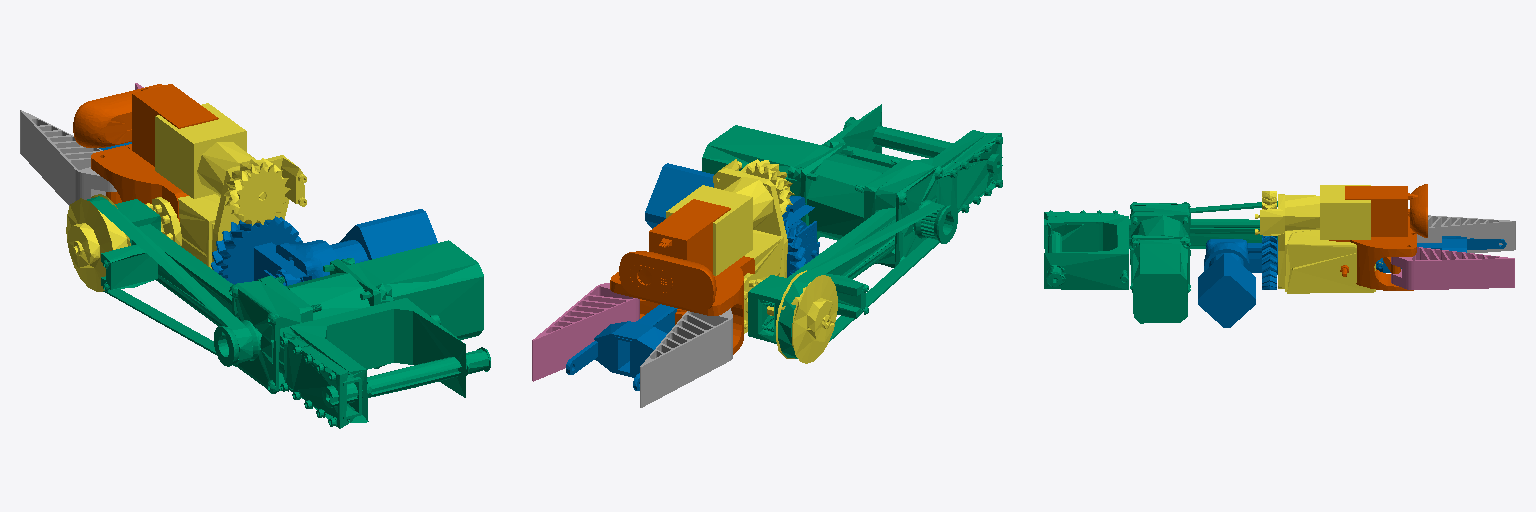
URDF robot description (lara):
<?xml version="1.0" ?>
<!-- =================================================================================== -->
<!-- |    This document was autogenerated by xacro from lara.xacro                     | -->
<!-- |    EDITING THIS FILE BY HAND IS NOT RECOMMENDED                                 | -->
<!-- =================================================================================== -->
<robot name="lara">
  <link name="chassis">
    <visual>
      <geometry>
        <mesh filename="package://lara_model/objs/Chassis.obj"/>
      </geometry>
    </visual>
    <collision>
      <geometry>
        <mesh filename="package://lara_model/objs/Chassis.obj"/>
      </geometry>
    </collision>
  </link>
  <link name="link_1">
    <visual>
      <geometry>
        <mesh filename="package://lara_model/objs/Link1.obj"/>
      </geometry>
    </visual>
    <collision>
      <geometry>
        <mesh filename="package://lara_model/objs/Link1.obj"/>
      </geometry>
    </collision>
  </link>
  <joint name="chassis_to_link_1" type="revolute">
    <axis xyz="0 0 1"/>
    <limit effort="1000.0" lower="-1.5707963267948966" upper="1.5707963267948966" velocity="0.5"/>
    <parent link="chassis"/>
    <child link="link_1"/>
    <origin rpy="0 0 0" xyz="-0.0000005953 -0.05506373 0.36944"/>
  </joint>
  <link name="link_2">
    <visual>
      <geometry>
        <mesh filename="package://lara_model/objs/Link2.obj"/>
      </geometry>
    </visual>
    <collision>
      <geometry>
        <mesh filename="package://lara_model/objs/Link2.obj"/>
      </geometry>
    </collision>
  </link>
  <joint name="link_1_to_link_2" type="revolute">
    <axis xyz="1 0 0"/>
    <limit effort="1000.0" lower="-1.5707963267948966" upper="1.5707963267948966" velocity="0.5"/>
    <parent link="link_1"/>
    <child link="link_2"/>
    <origin rpy="0 0 0" xyz="0 0.145 0"/>
  </joint>
  <link name="link_3">
    <visual>
      <geometry>
        <mesh filename="package://lara_model/objs/Link3.obj"/>
      </geometry>
    </visual>
    <collision>
      <geometry>
        <mesh filename="package://lara_model/objs/Link3.obj"/>
      </geometry>
    </collision>
  </link>
  <joint name="link_2_to_link_3" type="revolute">
    <axis xyz="1 0 0"/>
    <limit effort="1000.0" lower="-1.5707963267948966" upper="1.5707963267948966" velocity="0.5"/>
    <parent link="link_2"/>
    <child link="link_3"/>
    <origin rpy="0 0 0" xyz="0.0068396853 0.27 0"/>
  </joint>
  <link name="link_4">
    <visual>
      <geometry>
        <mesh filename="package://lara_model/objs/Link4.obj"/>
      </geometry>
    </visual>
    <collision>
      <geometry>
        <mesh filename="package://lara_model/objs/Link4.obj"/>
      </geometry>
    </collision>
  </link>
  <joint name="link_3_to_link_4" type="revolute">
    <axis xyz="0 1 0"/>
    <limit effort="1000.0" lower="-1.5707963267948966" upper="1.5707963267948966" velocity="0.5"/>
    <parent link="link_3"/>
    <child link="link_4"/>
    <origin rpy="0 0 0" xyz="0 0 0"/>
  </joint>
  <link name="link_5">
    <visual>
      <geometry>
        <mesh filename="package://lara_model/objs/Link5.obj"/>
      </geometry>
    </visual>
    <collision>
      <geometry>
        <mesh filename="package://lara_model/objs/Link5.obj"/>
      </geometry>
    </collision>
  </link>
  <joint name="link_4_to_link_5" type="revolute">
    <axis xyz="1 0 0"/>
    <limit effort="1000.0" lower="-1.5707963267948966" upper="1.5707963267948966" velocity="0.5"/>
    <parent link="link_4"/>
    <child link="link_5"/>
    <origin rpy="0 0 0" xyz="0 0 0"/>
  </joint>
  <link name="finger_r">
    <visual>
      <geometry>
        <mesh filename="package://lara_model/objs/FingerR.obj"/>
      </geometry>
    </visual>
    <collision>
      <geometry>
        <mesh filename="package://lara_model/objs/FingerR.obj"/>
      </geometry>
    </collision>
  </link>
  <joint name="link_5_to_finger_r" type="revolute">
    <axis xyz="0 0 1"/>
    <limit effort="1000.0" lower="-1.5707963267948966" upper="1.5707963267948966" velocity="0.5"/>
    <parent link="link_5"/>
    <child link="finger_r"/>
    <origin rpy="0 0 0" xyz="0.03284967 0.05965715 0.0045"/>
  </joint>
  <link name="finger_l">
    <visual>
      <geometry>
        <mesh filename="package://lara_model/objs/FingerL.obj"/>
      </geometry>
    </visual>
    <collision>
      <geometry>
        <mesh filename="package://lara_model/objs/FingerL.obj"/>
      </geometry>
    </collision>
  </link>
  <joint name="link_5_to_finger_l" type="revolute">
    <axis xyz="0 0 1"/>
    <limit effort="1000.0" lower="-1.5707963267948966" upper="1.5707963267948966" velocity="0.5"/>
    <parent link="link_5"/>
    <child link="finger_l"/>
    <origin rpy="0 0 0" xyz="-0.03715033 0.05965715 0.0045"/>
  </joint>
</robot>

--- Render facts (derived) ---
3 views of the same robot in one strip: view 1: azimuth 30°, elevation 25°; view 2: azimuth 150°, elevation 25°; view 3: azimuth 270°, elevation 25° (orthographic).
Model lara with 8 links and 7 joints (7 revolute), rooted at chassis, posed all joints at 0.
Links seen in each view (by area): view 1: link_2, link_3, link_4, link_5, finger_l; view 2: link_2, link_3, link_5, link_4, finger_l, finger_r; view 3: link_2, link_3, link_4, link_5, finger_r, finger_l.
Link boxes in pixels (<box>): link_2: <box>87,196,490,428</box>; link_3: <box>66,103,306,291</box>; link_4: <box>99,142,437,285</box>; link_5: <box>73,84,218,221</box>; finger_l: <box>20,110,116,205</box>; link_2: <box>702,104,1002,358</box>; link_3: <box>666,159,837,363</box>; link_5: <box>610,199,754,354</box>; link_4: <box>566,163,819,390</box>; finger_l: <box>640,308,732,407</box>; finger_r: <box>532,283,639,381</box>; link_2: <box>1044,201,1277,323</box>; link_3: <box>1255,185,1382,293</box>; link_4: <box>1198,235,1506,327</box>; link_5: <box>1329,184,1427,290</box>; finger_r: <box>1391,247,1514,289</box>; finger_l: <box>1417,215,1515,253</box>.
Bounding box of the posed robot: 0.1933 × 0.4391 × 0.097 m (x, y, z).
6 mesh visuals loaded from 8 distinct referenced files (6 OBJ); not drawn: 2 (reference not matched to a file when rendering).
